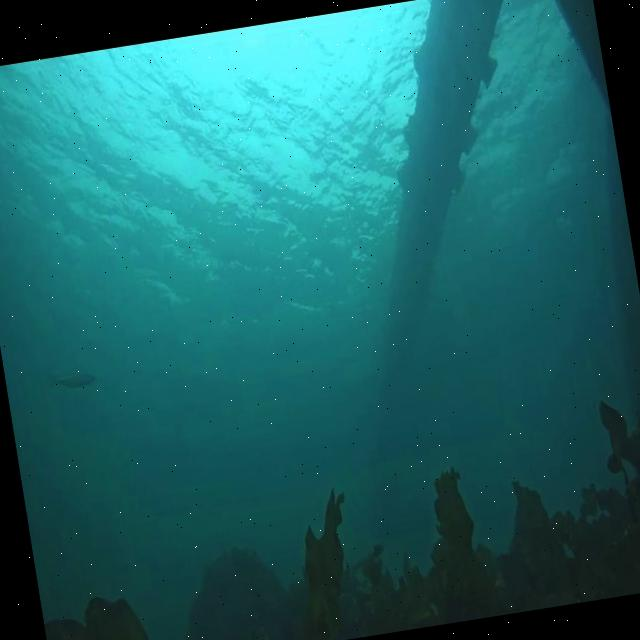fish: (42, 366, 96, 394)
